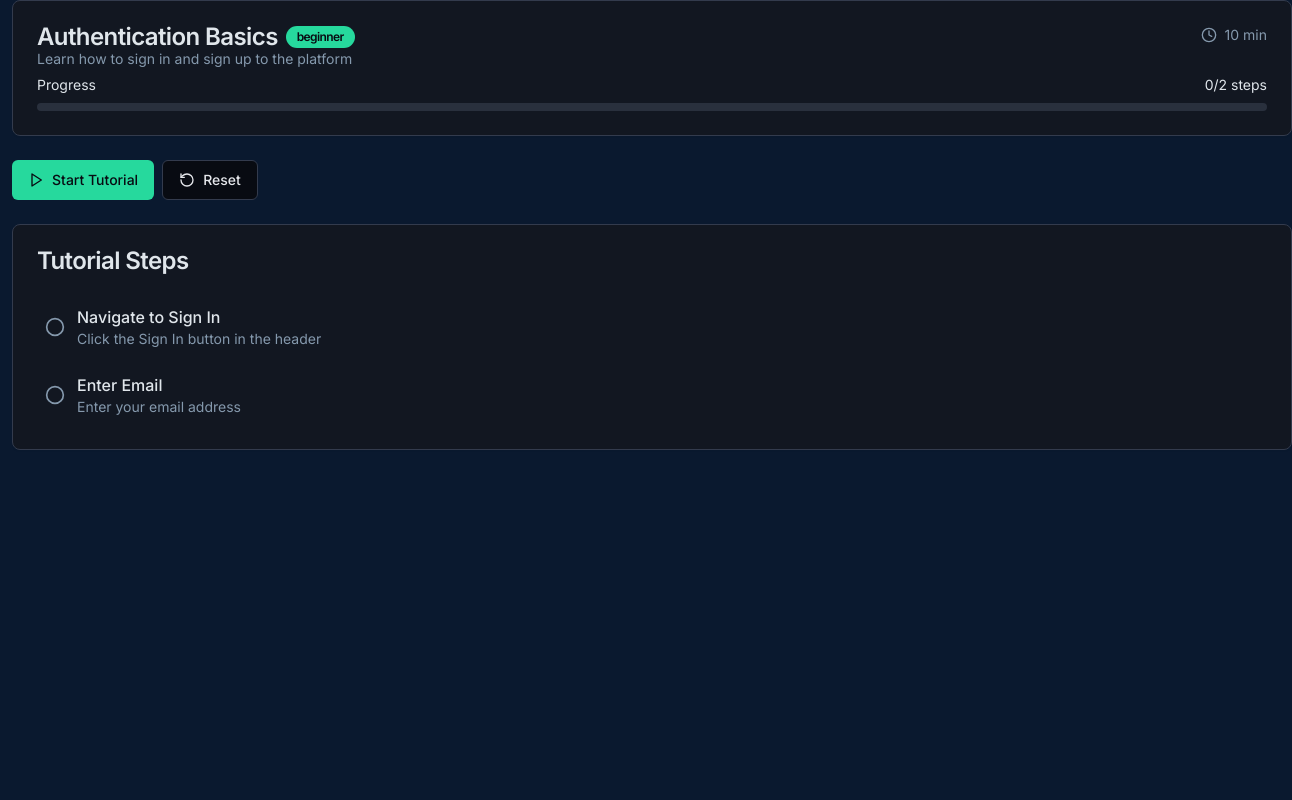
Test: InteractiveTutorial › Step Interaction › should progress to next step after successful validation
The width and height of the screenshot is (1292, 800).
// Start tutorial
Click the button "Start Tutorial".
click(83, 180)  # box [12, 160, 154, 200]
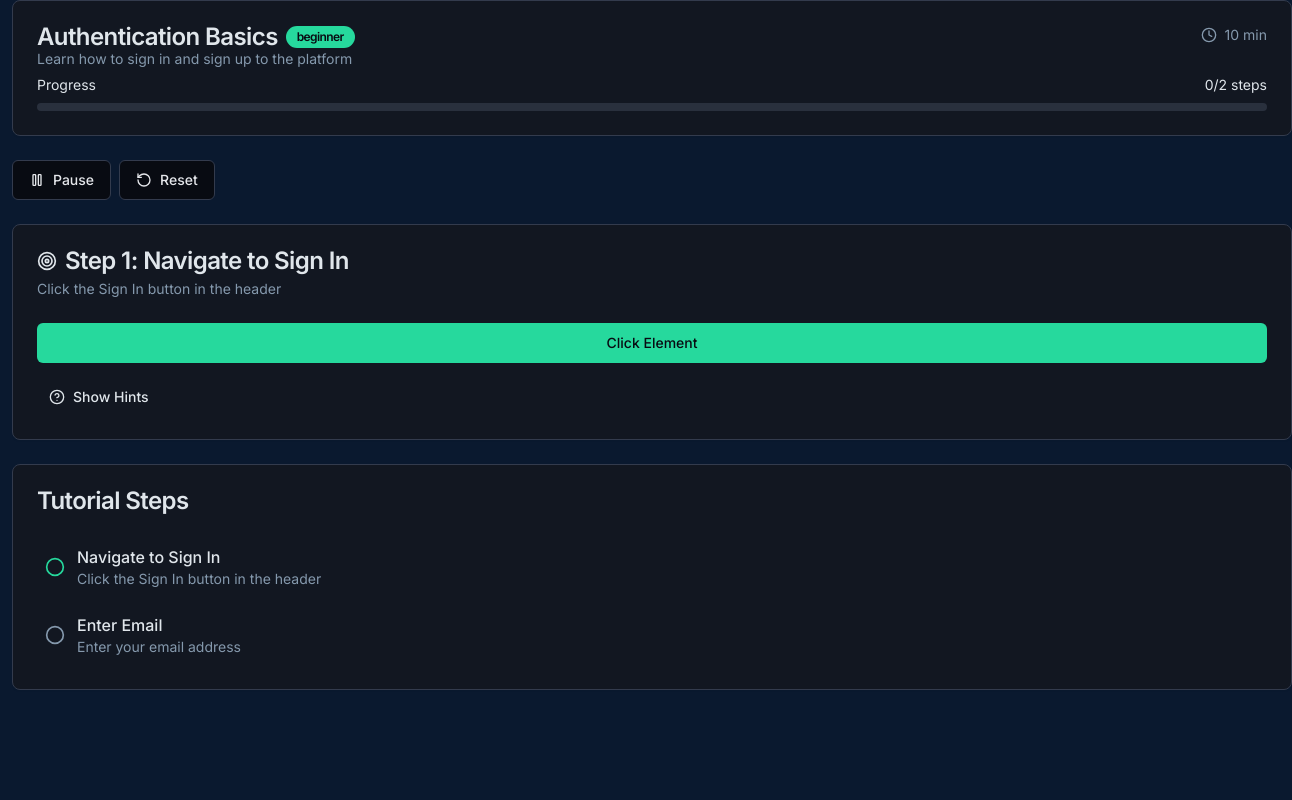
// Complete first step
Click the button "Click Element".
click(652, 343)  # box [37, 323, 1267, 363]
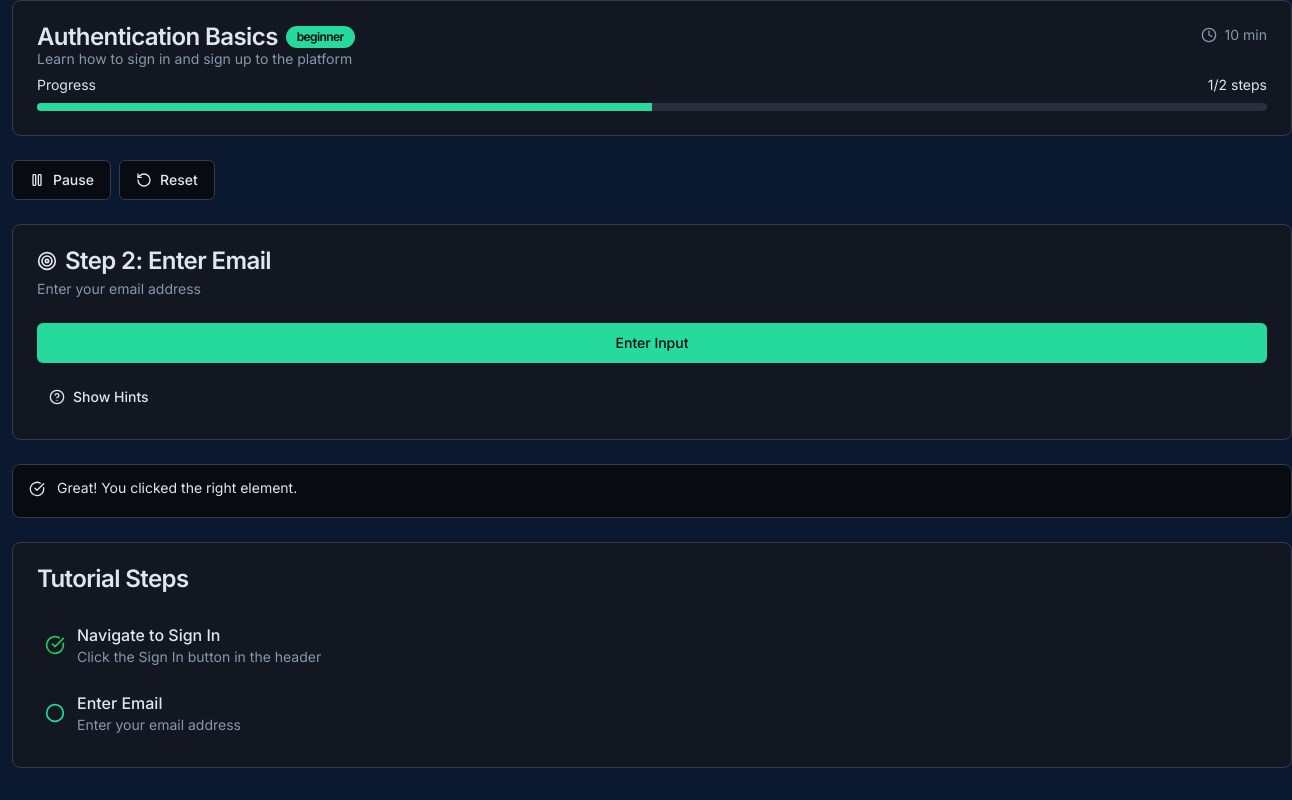
Result: the text "Step 2: Enter Email" is shown at [37, 246, 271, 275]
Result: the text "1/2 steps" is shown at [1208, 75, 1267, 95]
